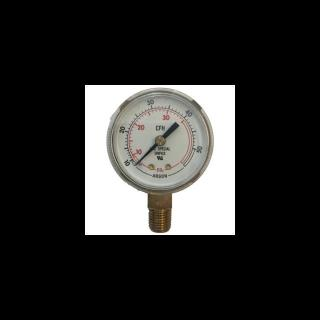gauge: (105, 84, 215, 196), (129, 157, 143, 171), (177, 158, 191, 172), (154, 135, 166, 145), (132, 161, 140, 167)
